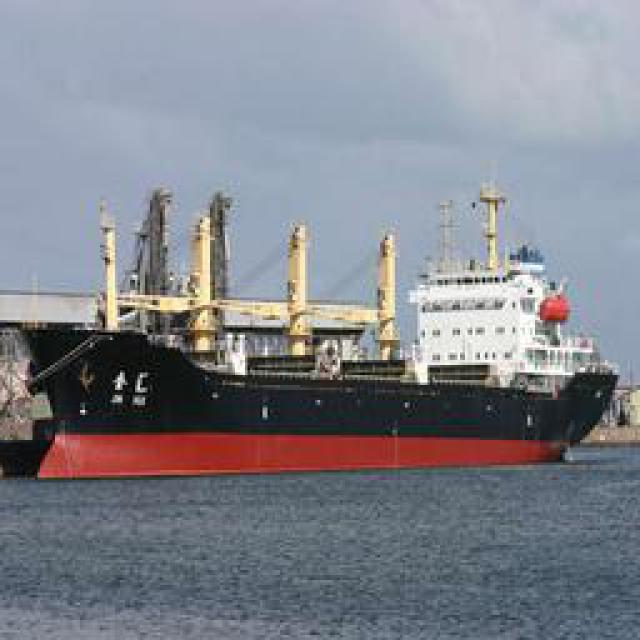Ship: (16, 163, 619, 481)
